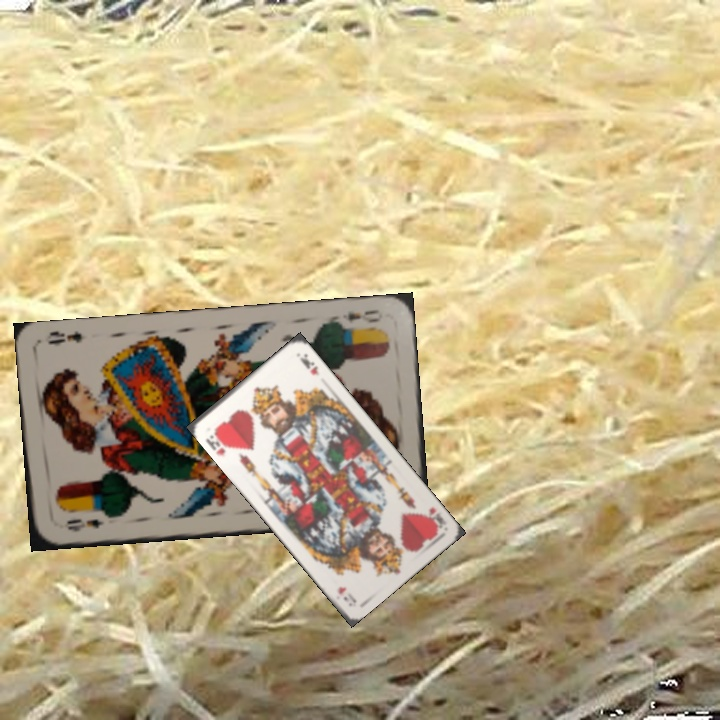EO: (329, 305, 385, 332), (63, 514, 107, 534)
HK: (201, 425, 232, 458), (420, 503, 449, 533)
